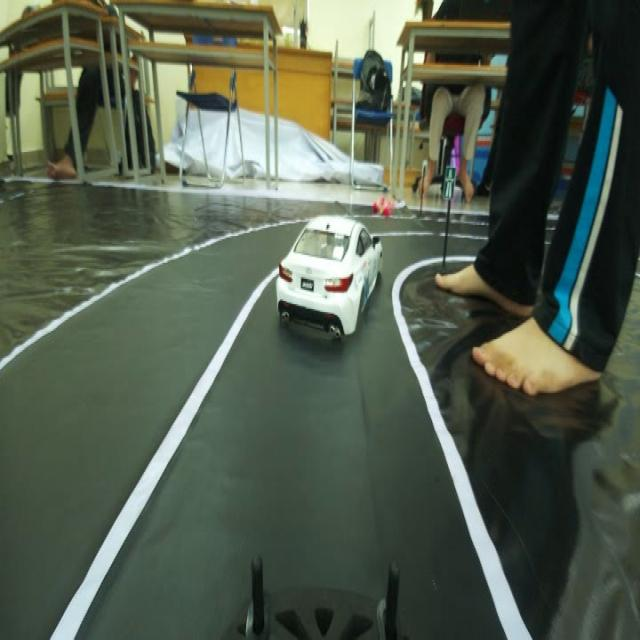car: (281, 205, 378, 351)
highway_entry: (442, 161, 460, 207)
